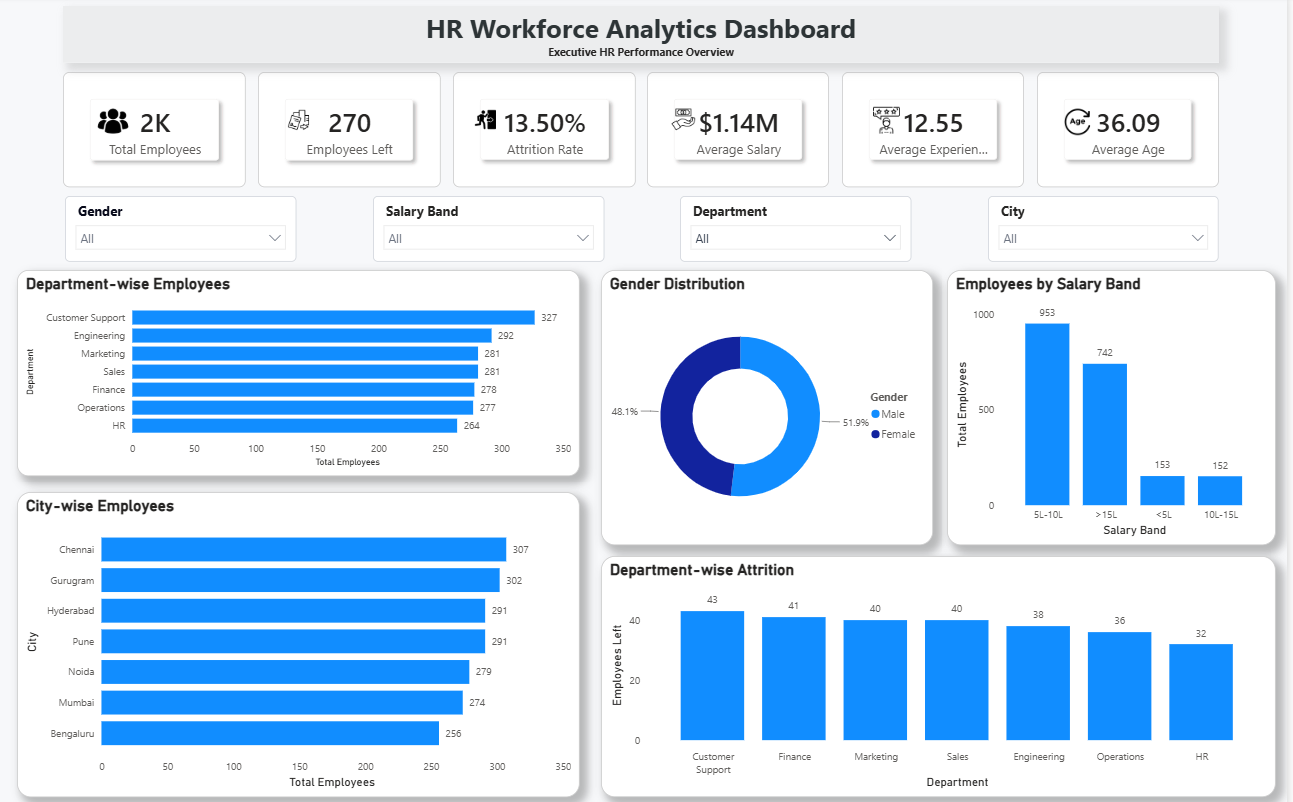

What the dashboard file says about the page in this screenshot:
{"tool":"powerbi","page":{"name":"HR Workforce Analytics Dashboard","canvas":[1600,1000],"ordinal":0},"visuals":[{"type":"cardVisual","fields":{"Data":["Employees.Total Employees"]},"box":[92.1,92.6,225,142],"z":0},{"type":"cardVisual","fields":{"Data":["Employees.Employees Left"]},"box":[332.1,92.6,224.7,142],"z":1000},{"type":"cardVisual","fields":{"Data":["Employees.Attrition Rate"]},"box":[572.1,92.6,225.1,141.8],"z":2000},{"type":"cardVisual","fields":{"Data":["Employees.Average Salary"]},"box":[811.6,92.4,224.1,141.6],"z":3000},{"type":"cardVisual","fields":{"Data":["Employees.Average Experience"]},"box":[1051.7,92.4,224.1,141.6],"z":4000},{"type":"cardVisual","fields":{"Data":["Employees.Average Age"]},"box":[1292.1,92.6,223.9,141.8],"z":5000},{"type":"clusteredBarChart","title":"Department-wise Employees","fields":{"Category":["Employees.Department"],"Y":["Employees.Total Employees"]},"box":[35.7,336.2,693.3,253.7],"z":6000},{"type":"clusteredBarChart","title":"City-wise Employees","fields":{"Category":["Employees.City"],"Y":["Employees.Total Employees"]},"box":[35.7,609.6,693.3,375.6],"z":7000},{"type":"donutChart","title":"Gender Distribution","fields":{"Category":["Employees.Gender"],"Y":["Employees.Total Employees"]},"box":[754.9,336.2,408.9,338.7],"z":8000},{"type":"columnChart","title":"Employees by Salary Band","fields":{"Category":["Employees.Salary Band"],"Y":["Employees.Total Employees"]},"box":[1181,336.2,405.2,338.7],"z":9000},{"type":"clusteredColumnChart","title":"Department-wise Attrition","fields":{"Category":["Employees.Department"],"Y":["Employees.Employees Left"]},"box":[754.9,688.4,831.3,296.8],"z":10000},{"type":"textbox","box":[92.4,11.1,1423.6,70.2],"z":11000},{"type":"slicer","fields":{"Values":["Employees.Department"]},"box":[852.6,245.1,285,81.3],"z":12000},{"type":"slicer","fields":{"Values":["Employees.Gender"]},"box":[94.8,245.1,285,81.3],"z":13000},{"type":"slicer","fields":{"Values":["Employees.City"]},"box":[1231.5,245.1,284.5,81.3],"z":14000},{"type":"slicer","fields":{"Values":["Employees.Salary Band"]},"box":[473.7,245.1,285,81.3],"z":15000},{"type":"image","box":[133,126.8,41.9,51.7],"z":16000},{"type":"image","box":[358.4,137.9,48,27.1],"z":17000},{"type":"image","box":[593.6,137.9,38.2,25.9],"z":18000},{"type":"image","box":[839.9,136.7,33.3,28.3],"z":19000},{"type":"image","box":[1089.9,134.2,33.3,35.7],"z":20000},{"type":"image","box":[1325.1,129.3,33.3,49.3],"z":21000}]}

Visuals, with their boxes in screenshot pixels (x1, y1, x2, y2), scaled from the page's 1600x1000 canvas onto the 1293x802 screenshot:
cardVisual - Employees.Total Employees: <box>74,74,256,188</box>
cardVisual - Employees.Employees Left: <box>268,74,450,188</box>
cardVisual - Employees.Attrition Rate: <box>462,74,644,188</box>
cardVisual - Employees.Average Salary: <box>656,74,837,188</box>
cardVisual - Employees.Average Experience: <box>850,74,1031,188</box>
cardVisual - Employees.Average Age: <box>1044,74,1225,188</box>
"Department-wise Employees" clusteredBarChart: <box>29,270,589,473</box>
"City-wise Employees" clusteredBarChart: <box>29,489,589,790</box>
"Gender Distribution" donutChart: <box>610,270,940,541</box>
"Employees by Salary Band" columnChart: <box>954,270,1282,541</box>
"Department-wise Attrition" clusteredColumnChart: <box>610,552,1282,790</box>
textbox: <box>75,9,1225,65</box>
slicer - Employees.Department: <box>689,197,919,262</box>
slicer - Employees.Gender: <box>77,197,307,262</box>
slicer - Employees.City: <box>995,197,1225,262</box>
slicer - Employees.Salary Band: <box>383,197,613,262</box>
image: <box>107,102,141,143</box>
image: <box>290,111,328,132</box>
image: <box>480,111,511,131</box>
image: <box>679,110,706,132</box>
image: <box>881,108,908,136</box>
image: <box>1071,104,1098,143</box>
